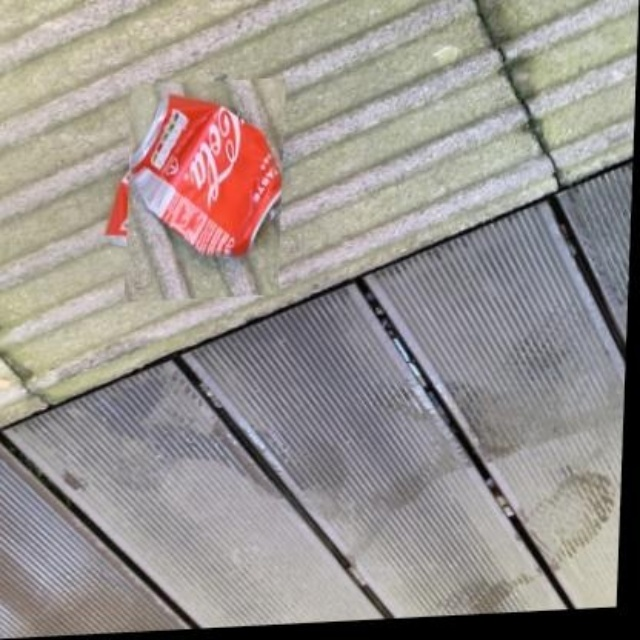trash: (131, 95, 280, 254)
